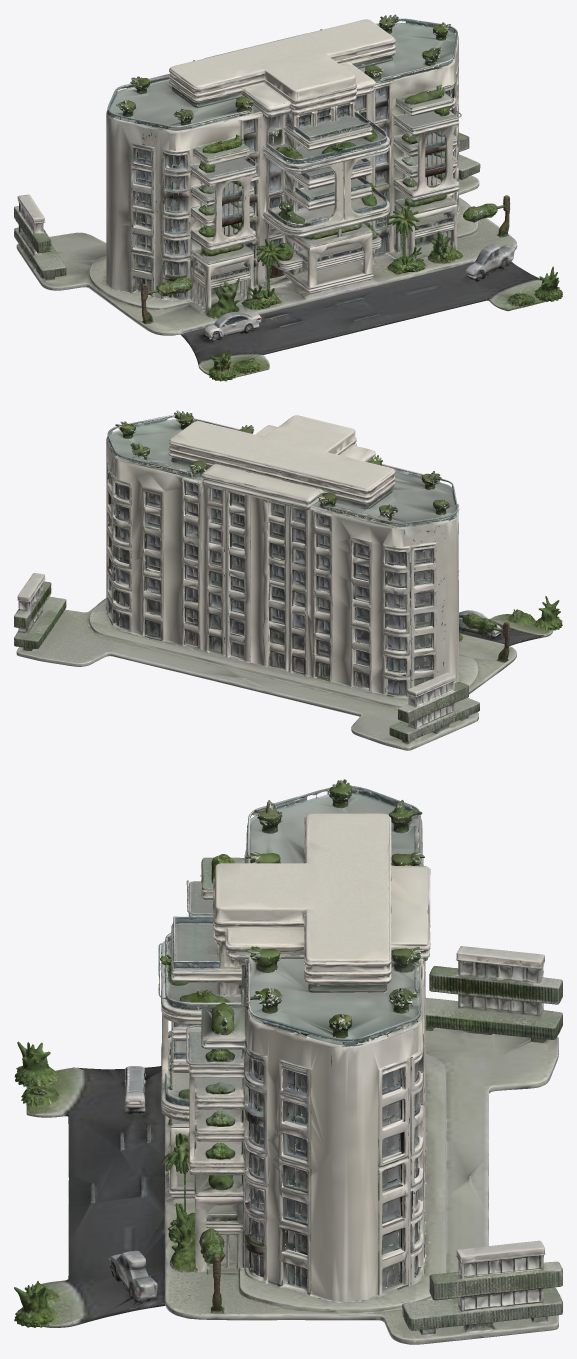
Rendered from ward-main.glb.
3 renders of one model, top to bottom at view 1: azimuth 30°, elevation 25°; view 2: azimuth 150°, elevation 25°; view 3: azimuth 270°, elevation 25°, orthographic. The views are drawn at different scales.
Parts seen in each view (by area): view 1: tripo_part_15, tripo_part_13, tripo_part_16, tripo_part_17, tripo_part_9, tripo_part_0, tripo_part_24, tripo_part_22, tripo_part_6, tripo_part_3, tripo_part_7, tripo_part_25 (+9 smaller); view 2: tripo_part_15, tripo_part_13, tripo_part_16, tripo_part_27, tripo_part_0, tripo_part_3, tripo_part_2; view 3: tripo_part_15, tripo_part_13, tripo_part_16, tripo_part_27, tripo_part_0, tripo_part_17, tripo_part_22, tripo_part_24, tripo_part_3, tripo_part_25, tripo_part_23, tripo_part_21 (+4 smaller).
Boxes of the visible parts, <box> form: tripo_part_15: <box>102,14,464,300</box>; tripo_part_13: <box>16,194,542,372</box>; tripo_part_16: <box>169,19,395,125</box>; tripo_part_17: <box>267,102,389,218</box>; tripo_part_9: <box>191,181,255,251</box>; tripo_part_0: <box>14,194,66,276</box>; tripo_part_24: <box>446,221,515,257</box>; tripo_part_22: <box>397,107,459,177</box>; tripo_part_6: <box>190,157,255,185</box>; tripo_part_3: <box>198,349,269,381</box>; tripo_part_7: <box>194,134,249,165</box>; tripo_part_25: <box>510,266,562,309</box>; tripo_part_15: <box>106,410,459,700</box>; tripo_part_13: <box>90,598,550,750</box>; tripo_part_16: <box>168,415,395,506</box>; tripo_part_27: <box>14,573,115,666</box>; tripo_part_0: <box>389,672,479,741</box>; tripo_part_3: <box>490,596,562,638</box>; tripo_part_2: <box>462,612,509,662</box>; tripo_part_15: <box>161,779,434,1304</box>; tripo_part_13: <box>26,1026,558,1327</box>; tripo_part_16: <box>213,813,394,987</box>; tripo_part_27: <box>370,1240,562,1344</box>; tripo_part_0: <box>425,946,562,1039</box>; tripo_part_17: <box>160,916,243,1121</box>; tripo_part_22: <box>188,1031,244,1147</box>; tripo_part_24: <box>166,1260,274,1314</box>; tripo_part_3: <box>14,1041,83,1117</box>; tripo_part_25: <box>14,1282,81,1327</box>; tripo_part_23: <box>189,1141,244,1175</box>; tripo_part_21: <box>167,1203,195,1274</box>.
Size of the model in its own units: 0.9797 by 0.45 by 0.7042.
28 materials, 28 textured.
